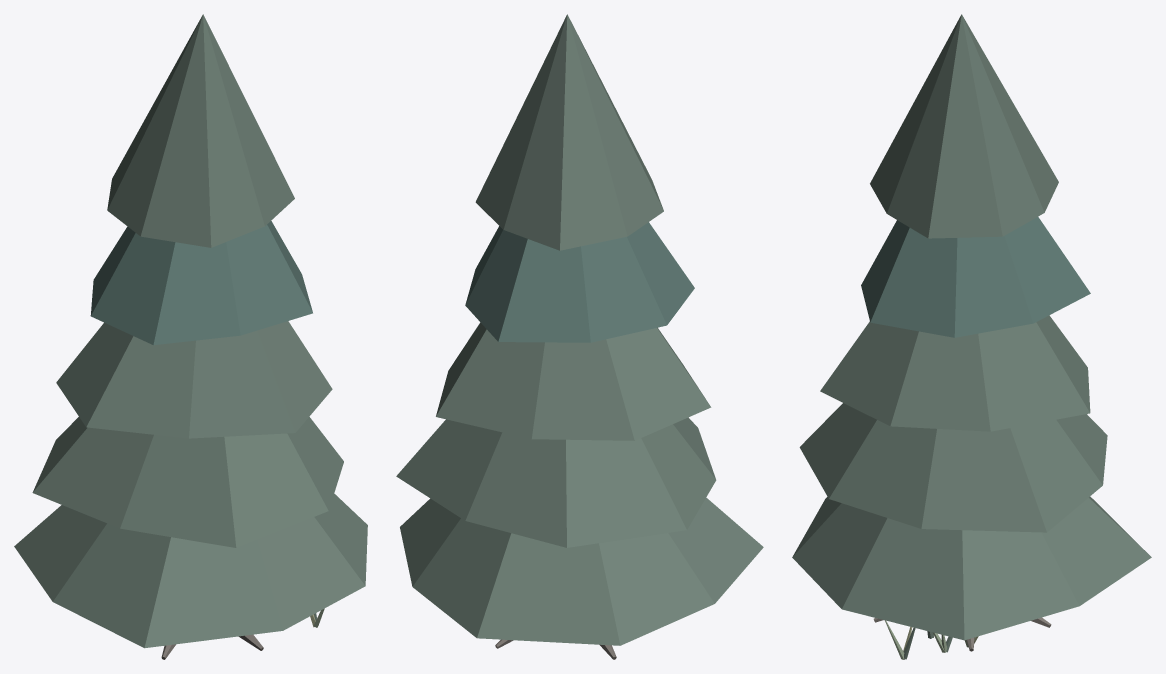
Rendered from svalich_black_fir.glb.
3 views of the same model, side by side, from view 1: azimuth 30°, elevation 25°; view 2: azimuth 150°, elevation 25°; view 3: azimuth 270°, elevation 25° (orthographic).
Parts seen in each view (by area): view 1: material_01, material_02; view 2: material_01, material_02; view 3: material_01, material_02.
Boxes of the visible parts, x1,y1,x2,y2 form: material_01: [14, 14, 367, 648]; material_02: [90, 221, 312, 345]; material_01: [396, 14, 763, 645]; material_02: [465, 222, 694, 342]; material_01: [792, 14, 1151, 659]; material_02: [861, 217, 1090, 337].
Bounding box in the file's own units: 1.47 × 2.73 × 1.47.
